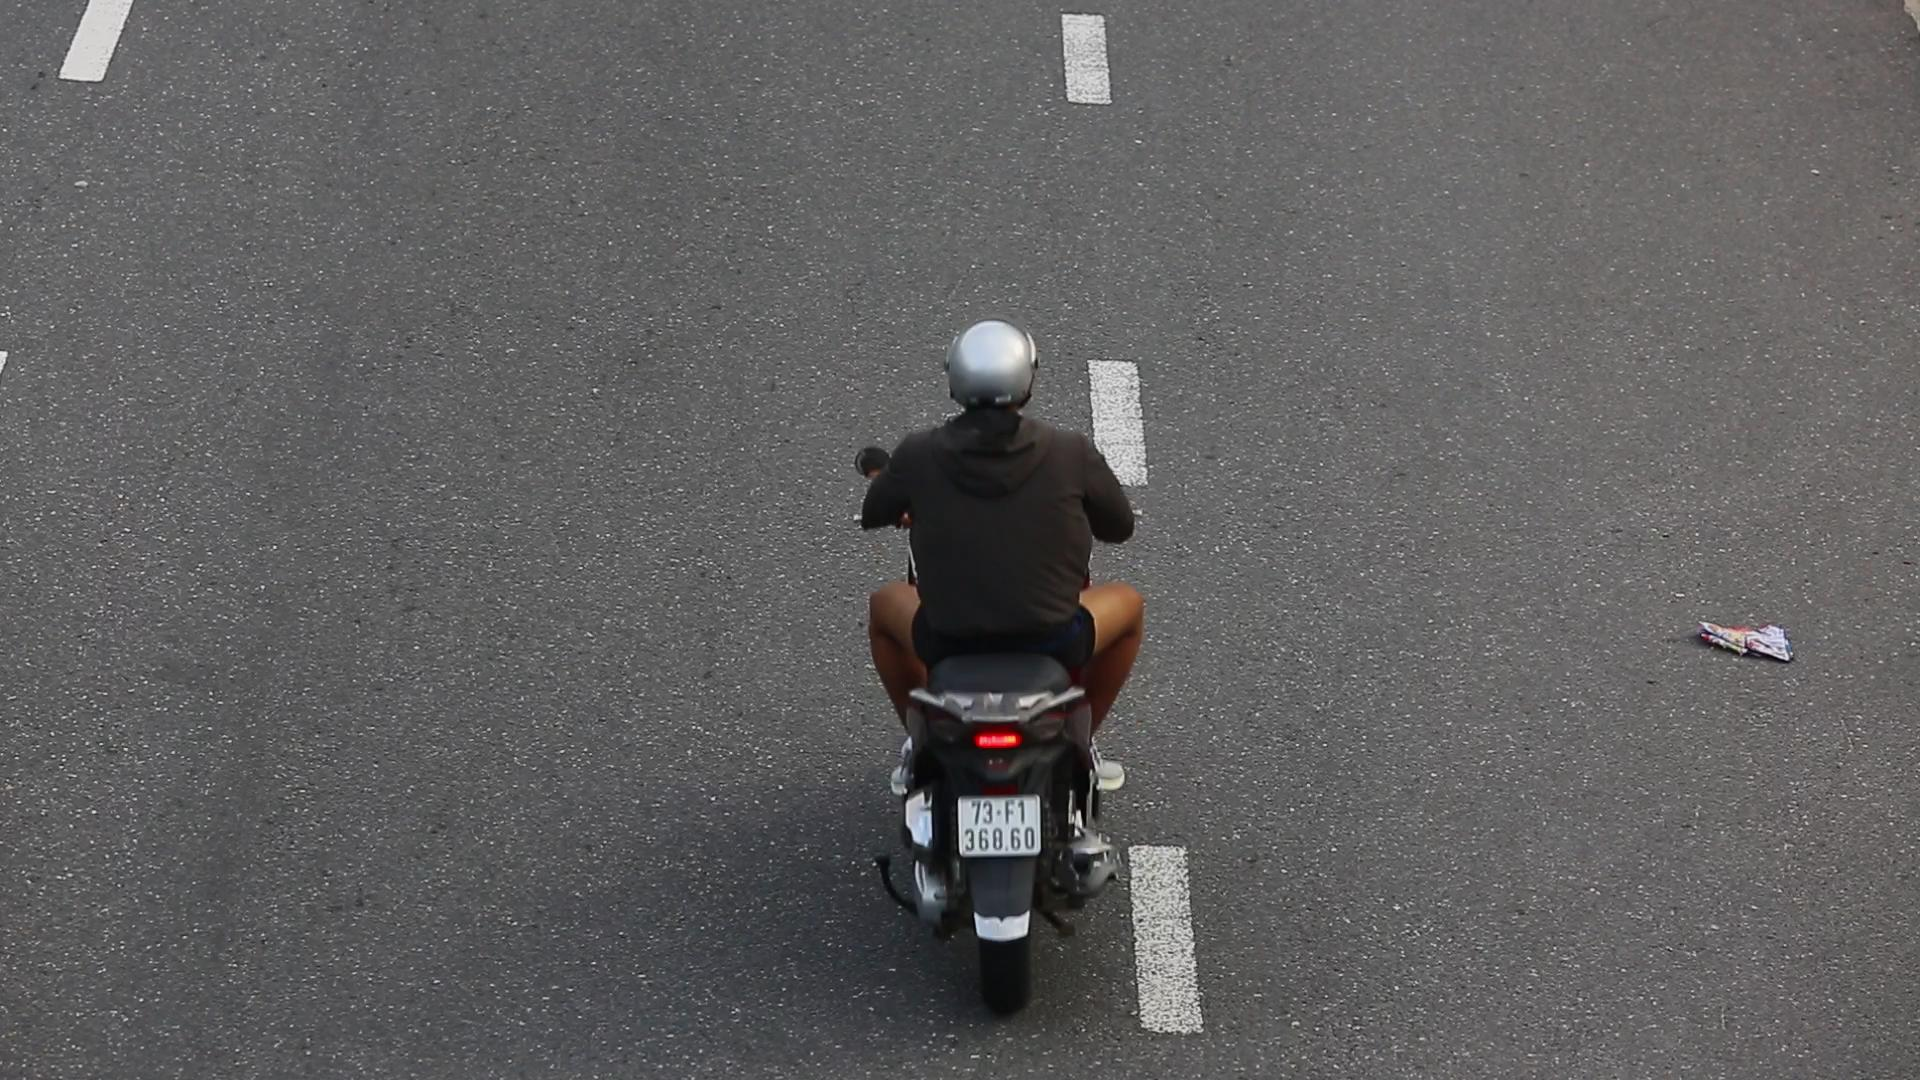motobike: (835, 309, 1166, 1019)
